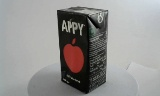appy: (53, 5, 102, 94)
